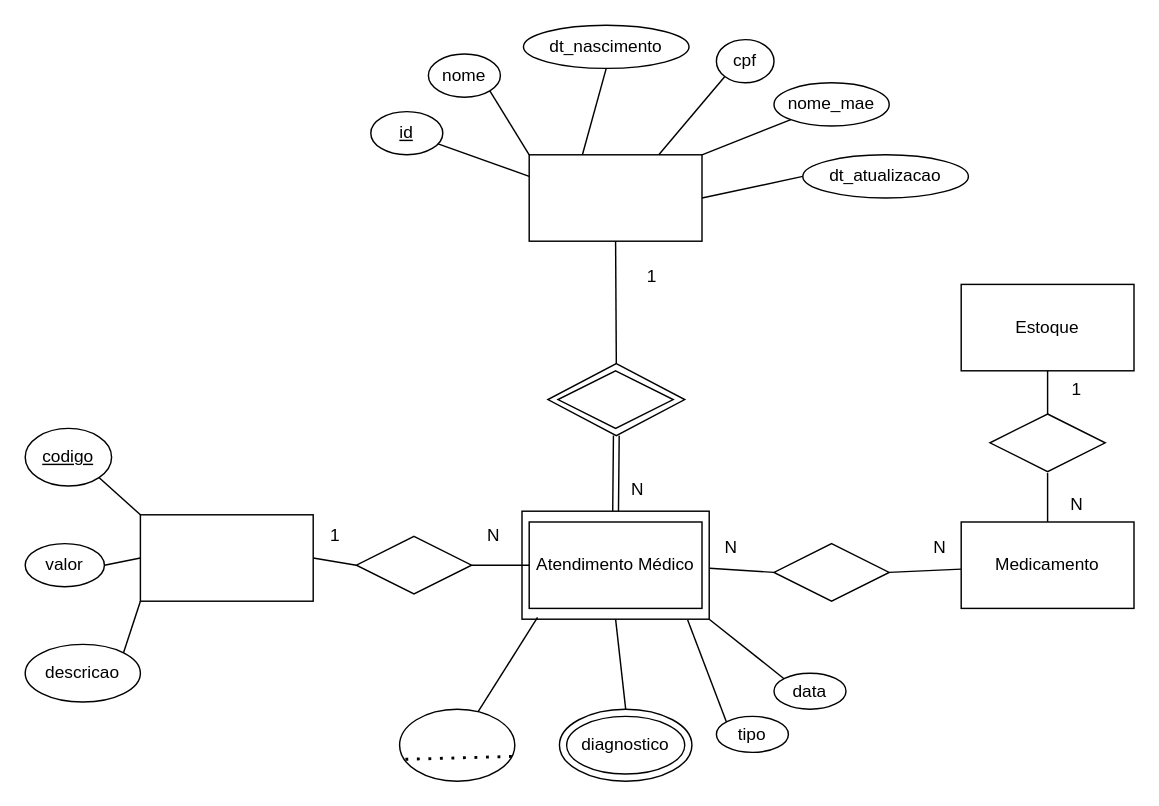
The diagram is 1159 pixels wide and 806 high, and some of its shapes have lost their labels. Each missing label, with the box of its shape:
Contém: (989, 413, 1105, 472)
n_protocolo: (398, 708, 515, 781)
Paciente: (528, 153, 702, 241)
Prescreve: (773, 542, 889, 601)
Procedimento Médico: (139, 513, 313, 601)
Realiza: (355, 535, 472, 594)
Recebe: (557, 369, 673, 428)
